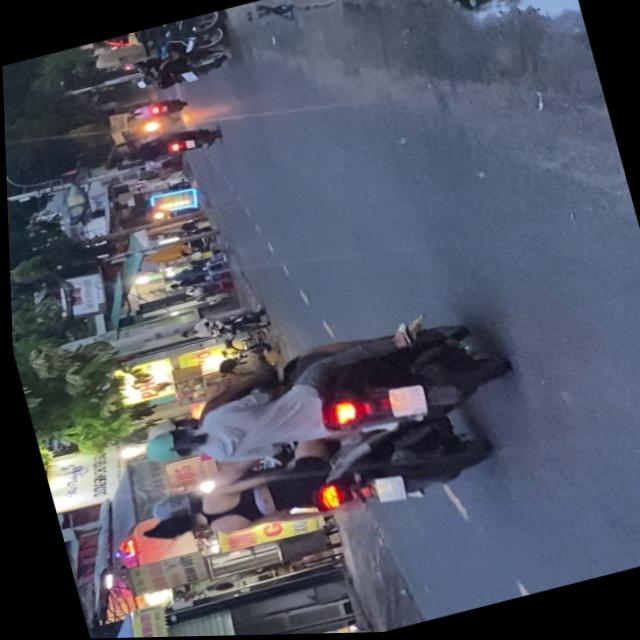helmet: (134, 423, 203, 471), (140, 489, 199, 527), (135, 413, 192, 444)
licenseplate: (116, 302, 518, 500), (124, 403, 496, 569)
motorcyclist: (137, 508, 203, 550)
nohelmet: (381, 384, 424, 422), (368, 475, 403, 508)
